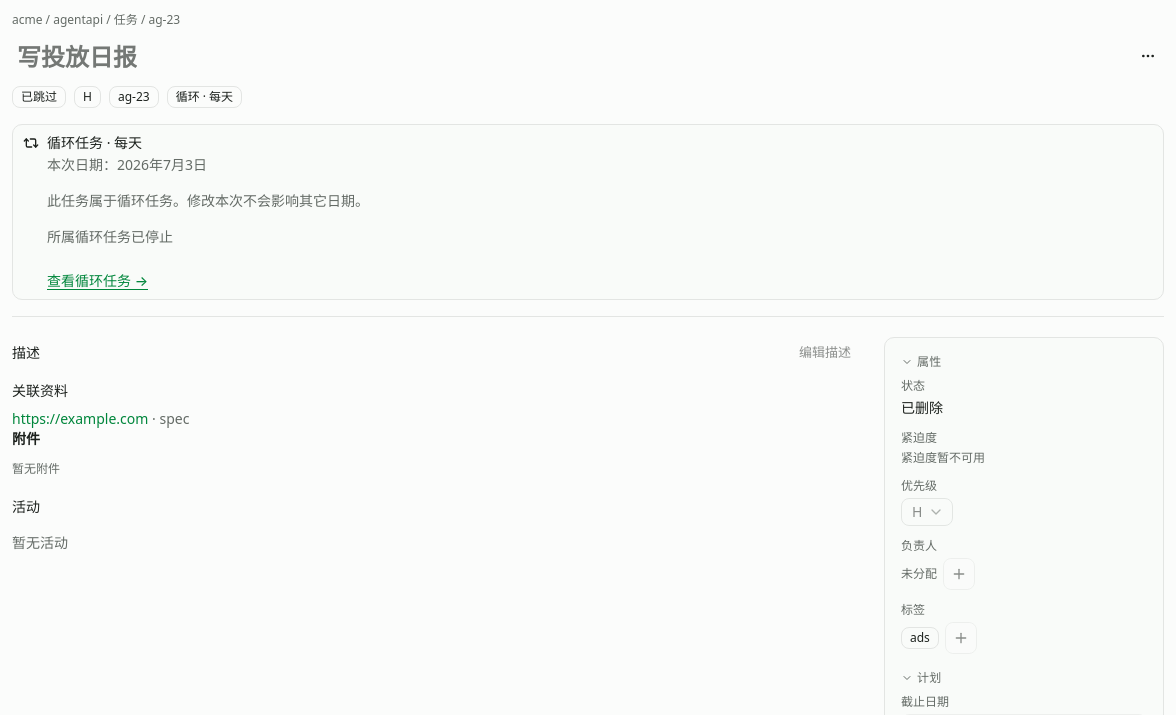
Test: TaskDetailPage › renders a deleted occurrence as a read-only skipped occurrence
The image size is (1176, 715).
Check: the text "已跳过" is shown, box [12,86,66,108]
Click the button named "更多操作 ag-23" at (1148, 56), box [1132,40,1164,72]
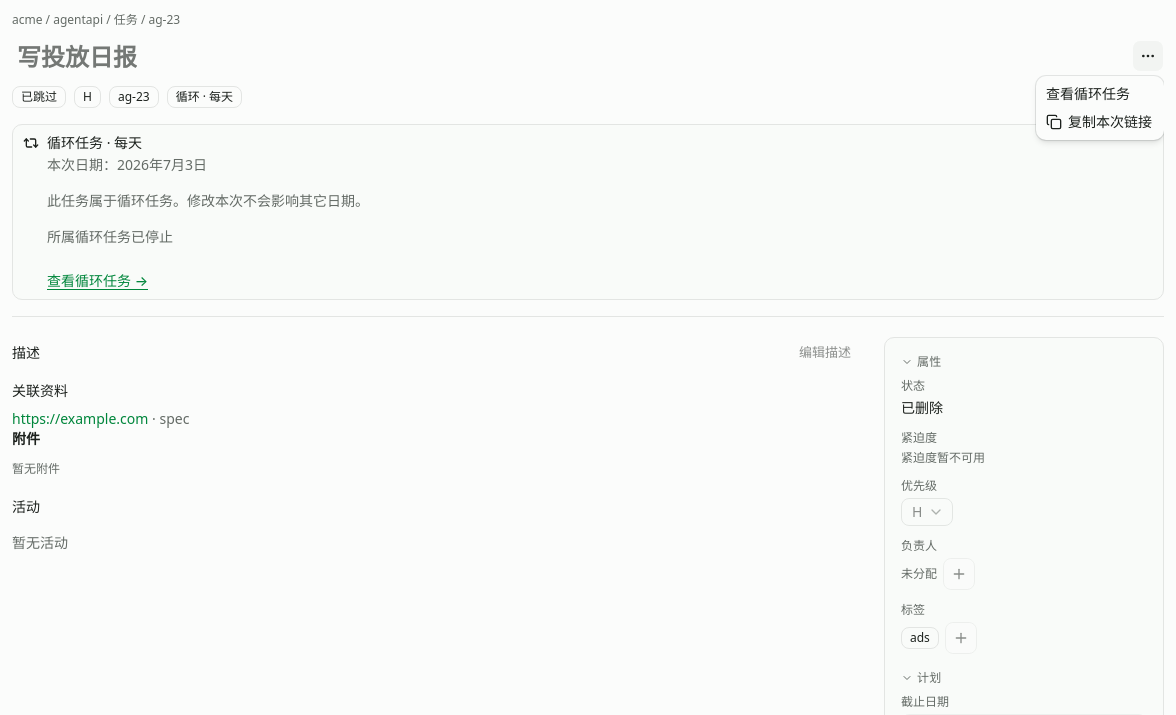
Check: the menu item "查看循环任务" is shown, box [1046,84,1130,103]
Check: the menu item "复制本次链接" is shown, box [1040,108,1160,136]
